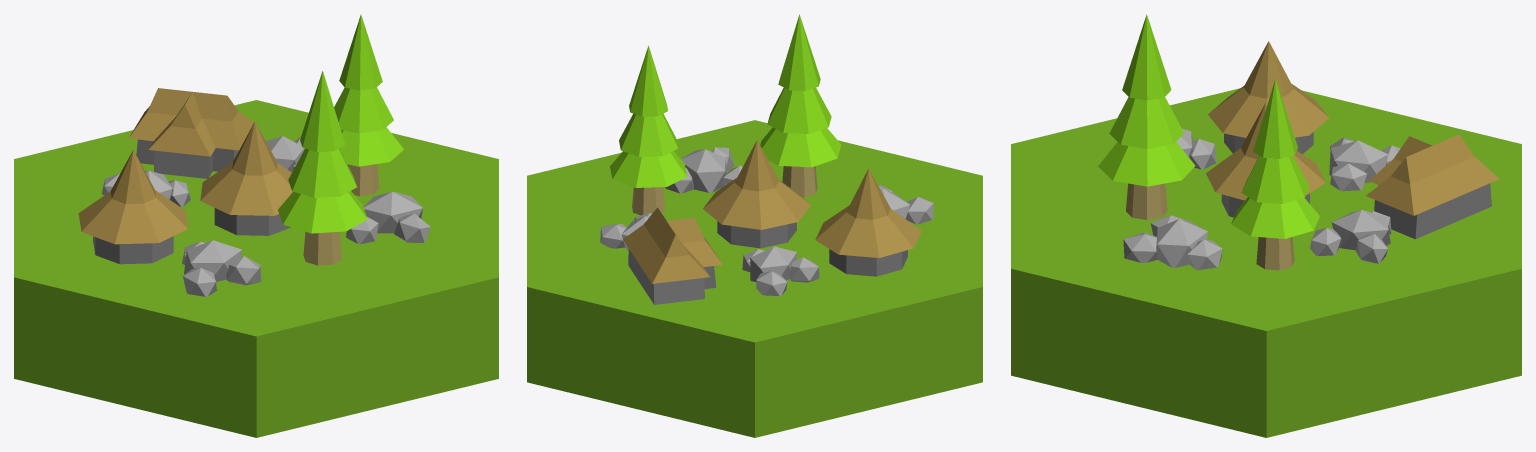
File: Casas_Pinos_Rocas_3.fbx
3 views of the same model, side by side, from view 1: azimuth 30°, elevation 25°; view 2: azimuth 150°, elevation 25°; view 3: azimuth 270°, elevation 25° (orthographic). The views are drawn at different scales.
Visible parts, largest first — view 1: Casas_Pinos_Rocas_3; view 2: Casas_Pinos_Rocas_3; view 3: Casas_Pinos_Rocas_3.
Part boxes in pixels (box(x1,y1,x2,y2)): Casas_Pinos_Rocas_3: box(14, 14, 498, 437); Casas_Pinos_Rocas_3: box(527, 14, 982, 437); Casas_Pinos_Rocas_3: box(1011, 14, 1521, 437).
Bounding box in the file's own units: 200 × 114 × 173.
